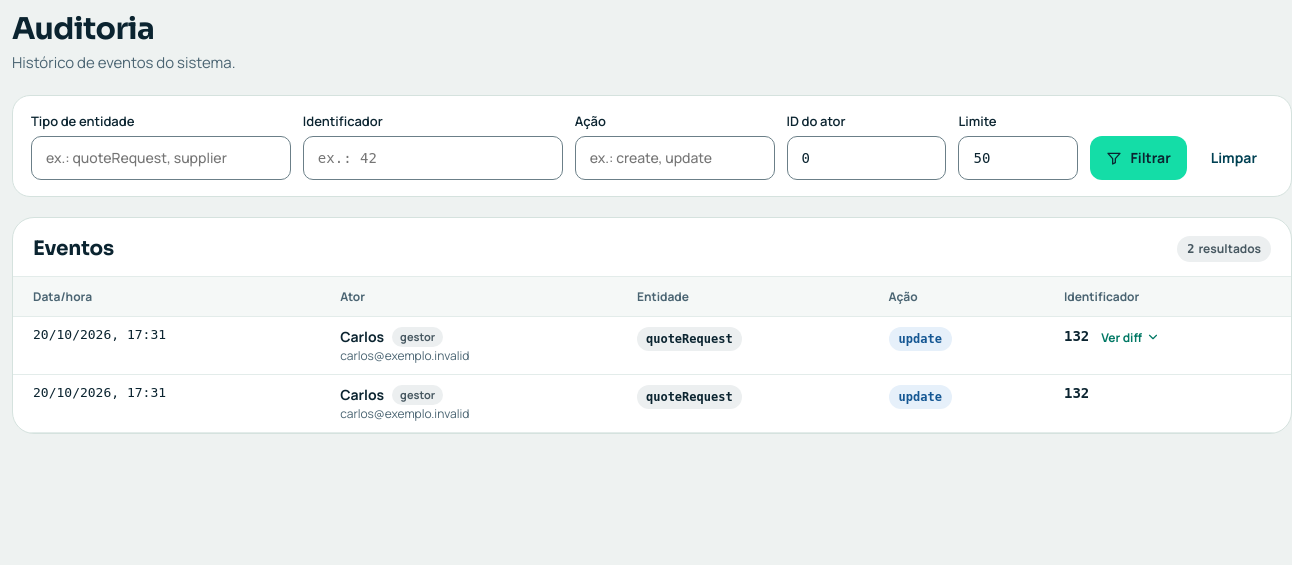
Scenario: F11: Auditoria › sem eyebrow; filtros em form[aria-label]; "Ver diff" com details e `pre` Antes/Depois; nenhum [style]
Expected: the form named "Filtros de auditoria" is shown, [12,94,1291,196]
Click the heading "Ver diff" at (1131, 337), box [1101,328,1160,346]
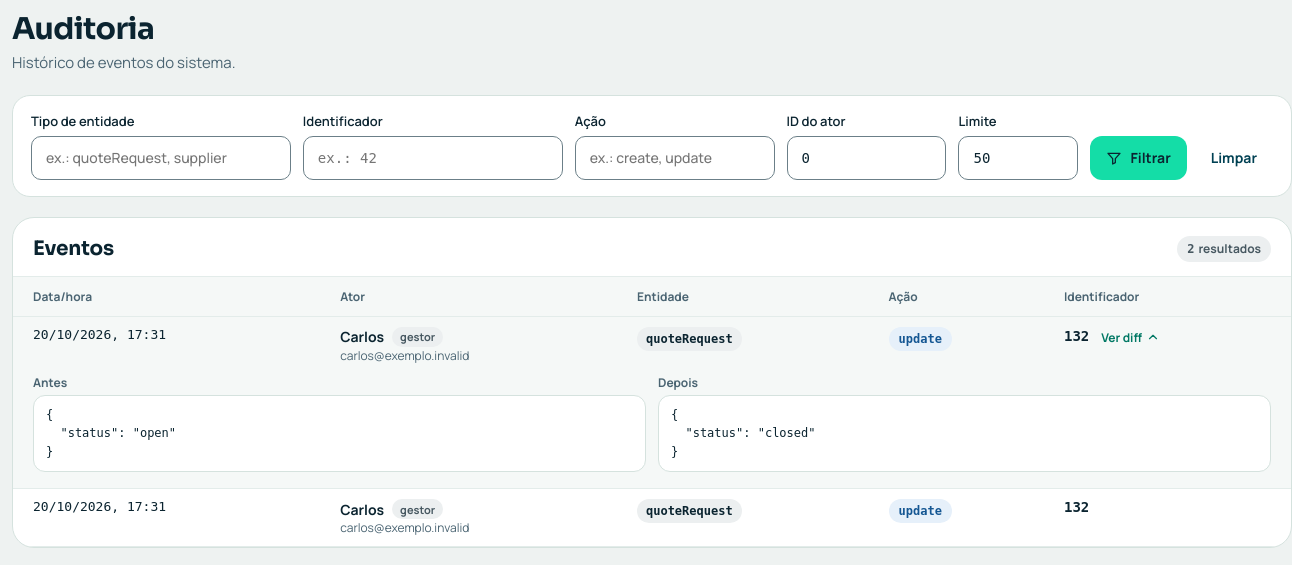
Expected: the row with class "auditoria-linha--aberta" is shown, [13,316,1291,374]
Expected: the element with class "auditoria-diff__grade" is shown, [33,374,1271,472]
Expected: the number of elements with class "auditoria-diff__json" is 2, [33,394,646,472]; [658,394,1271,472]
